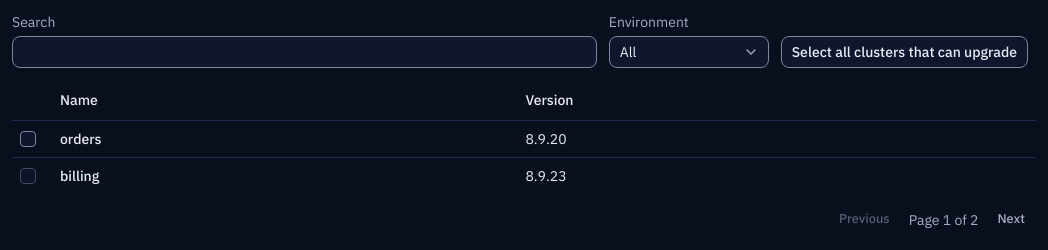
Scenario: DataTable › shows one page at a time
Expected: the number of links is 2, 60,130 -> 102,148; 60,166 -> 99,184
Expected: the text "Page 1 of 2" is shown, 909,210 -> 978,230
Click the button with aria-label "Next page" at point(1011, 220), box 986,206 -> 1036,234
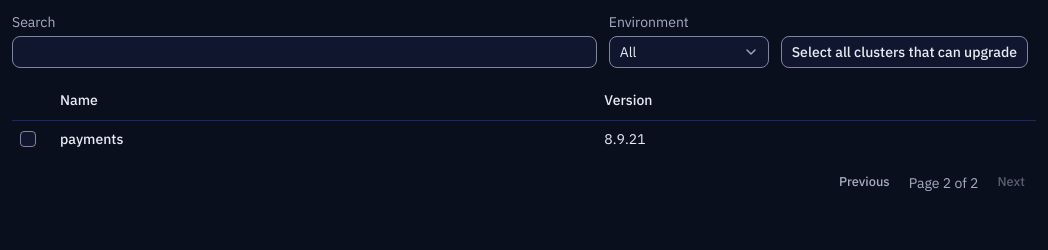
Expected: the links read "payments", in this order, 60,130 -> 123,148
